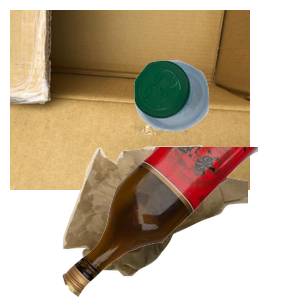cardboard: (10, 10, 250, 190)
glass: (60, 147, 300, 300)
plastic: (132, 58, 300, 182)
trash: (60, 142, 300, 300)
